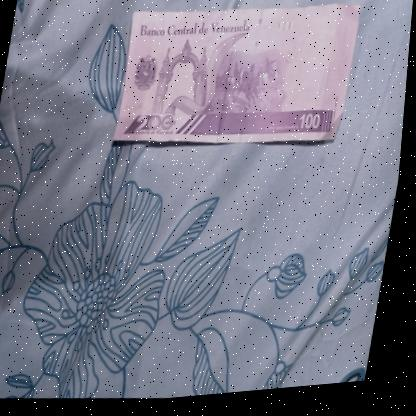vef_back: (111, 0, 365, 166)
